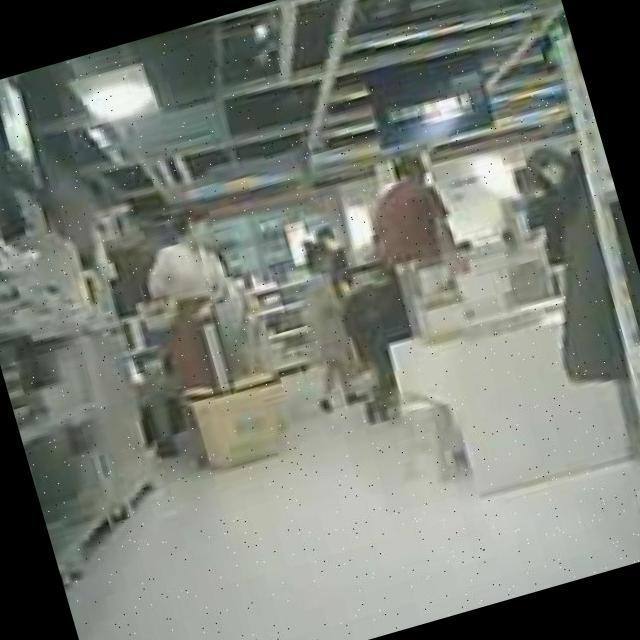person: (131, 210, 252, 394), (274, 237, 381, 417), (358, 151, 468, 293)
